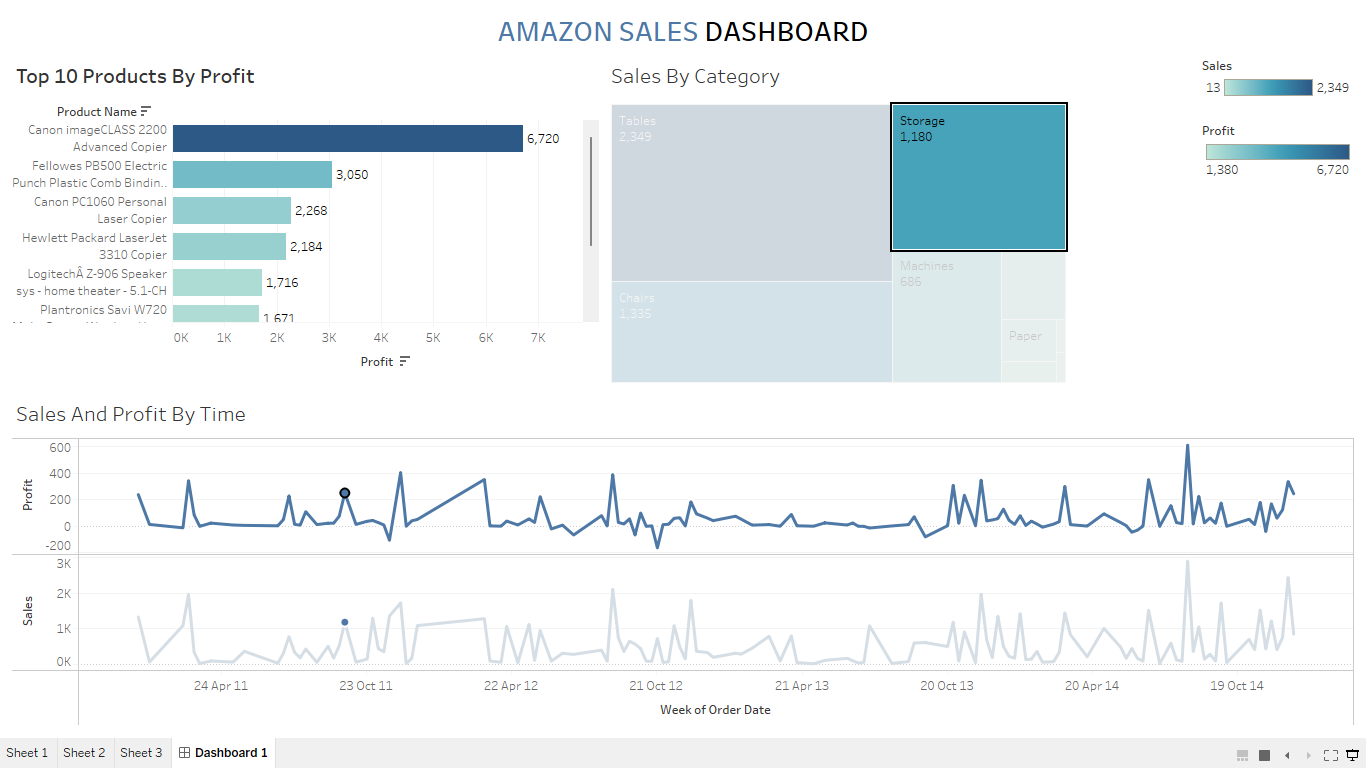

The page's visual inventory and layout, read from the dashboard file:
{"tool":"tableau","page":{"name":"Dashboard 1","canvas":[1000,1000],"units":"permille","ordinal":0},"visuals":[{"type":"worksheet","title":"Sheet 2","mark":"Automatic","rows":["Product Name"],"cols":["Profit"],"box":[6.9,14.7,423.8,485.2]},{"type":"worksheet","title":"Sheet 1","mark":"Automatic","box":[430.7,14.7,423.9,485.2]},{"type":"legend","title":"Sheet 1","param":"[federated.1mloptm15uh2at1h23z5h0e0q7hm].[sum:Sales:qk]","box":[854.5,14.7,138.5,119.5]},{"type":"legend","title":"Sheet 2","param":"[federated.1mloptm15uh2at1h23z5h0e0q7hm].[sum:Profit:qk]","box":[854.5,134.2,138.5,119.5]},{"type":"worksheet","title":"Sheet 3","mark":"Automatic","rows":["Profit","Sales"],"cols":["Order Date"],"box":[6.9,499.9,986.1,485.4]}]}

Visuals, with their boxes on the dashboard's canvas, which has no fixed pixel size, in thousandths of its width and height (x1, y1, x2, y2). These are canvas units, not pixel positions in the 1366x768 screenshot, which may show the page scaled, cropped or inside an application window:
"Sheet 2" worksheet: <box>7,15,431,500</box>
"Sheet 1" worksheet: <box>431,15,855,500</box>
"Sheet 1" legend: <box>854,15,993,134</box>
"Sheet 2" legend: <box>854,134,993,254</box>
"Sheet 3" worksheet: <box>7,500,993,985</box>
